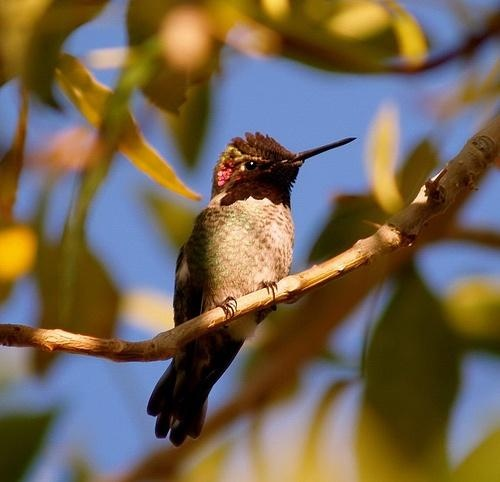bird: (149, 131, 357, 448)
